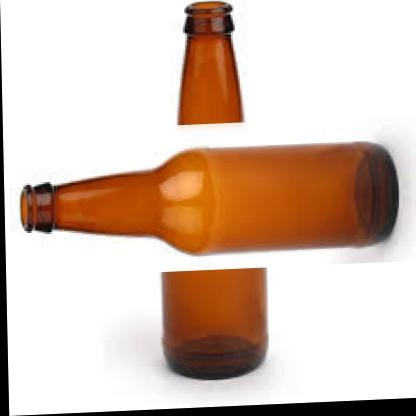trash: (21, 142, 398, 253), (162, 268, 267, 378), (178, 1, 242, 124)
